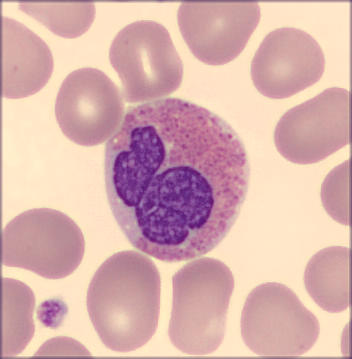EO: (102, 99, 251, 261)
PLT: (37, 296, 69, 331)
RBC: (86, 249, 162, 351), (239, 280, 322, 359), (170, 255, 233, 359), (272, 87, 350, 167), (108, 18, 183, 101), (1, 207, 83, 280), (176, 1, 259, 67), (56, 67, 123, 147), (251, 28, 325, 100), (1, 17, 52, 101), (302, 245, 350, 313), (18, 1, 96, 40), (2, 280, 35, 358), (317, 159, 352, 232), (33, 334, 92, 359)
